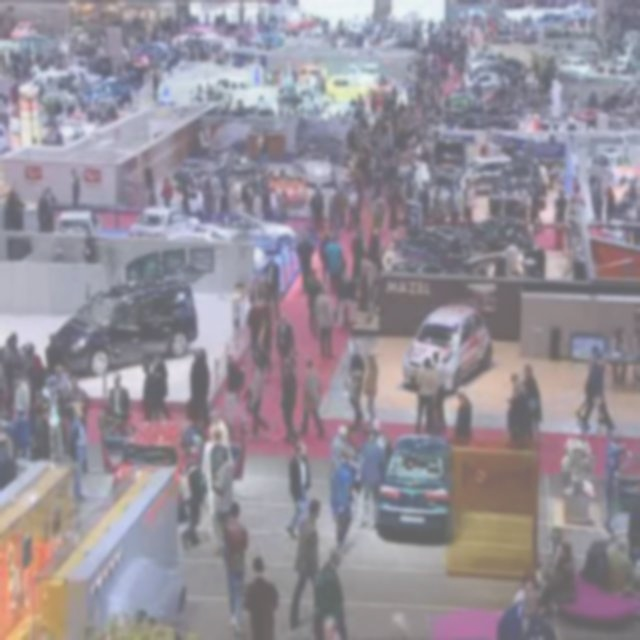pessoa: (338, 14, 640, 232), (190, 10, 340, 116), (132, 168, 336, 240), (0, 161, 102, 261), (496, 526, 575, 639), (188, 115, 336, 165), (288, 499, 324, 633), (218, 500, 250, 637), (583, 522, 638, 592), (574, 344, 617, 431), (208, 442, 238, 554), (242, 554, 280, 638), (355, 428, 385, 531), (177, 444, 204, 552), (319, 547, 350, 639), (284, 440, 312, 540), (330, 424, 358, 522), (64, 373, 92, 465), (0, 329, 28, 416), (296, 357, 324, 437), (44, 363, 70, 448), (66, 402, 88, 502), (9, 369, 32, 462), (604, 424, 626, 512), (247, 360, 271, 440), (190, 346, 213, 429), (20, 343, 46, 416), (279, 358, 300, 447), (412, 356, 434, 436), (314, 284, 336, 361), (520, 362, 542, 438), (370, 418, 388, 510), (151, 352, 173, 427), (226, 348, 246, 428), (347, 340, 365, 427), (207, 408, 234, 464), (361, 353, 379, 433), (295, 229, 317, 294), (18, 128, 82, 150), (140, 360, 158, 438), (274, 315, 296, 377), (261, 252, 281, 320), (32, 393, 52, 460), (182, 412, 206, 466), (0, 417, 13, 516), (245, 292, 263, 362), (334, 258, 361, 304), (454, 385, 474, 447), (305, 272, 323, 340), (503, 231, 528, 276), (256, 292, 272, 360), (108, 372, 130, 420), (618, 342, 640, 388), (324, 231, 344, 280), (348, 223, 364, 284), (210, 429, 223, 491), (238, 392, 254, 442), (316, 614, 348, 639), (318, 232, 330, 286), (612, 322, 640, 345), (371, 266, 382, 316), (382, 240, 398, 272), (430, 350, 442, 390), (510, 372, 526, 402), (368, 228, 380, 264), (339, 447, 357, 470), (246, 270, 260, 296)
